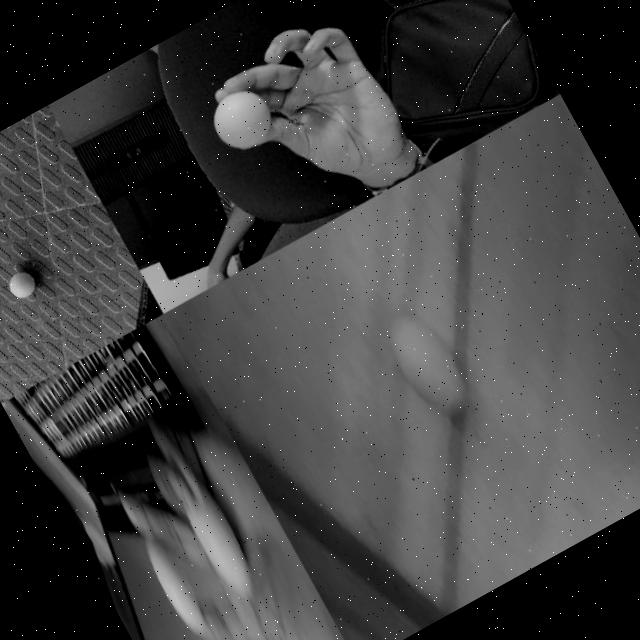ping-pong-ball: (172, 478, 264, 604), (380, 310, 472, 423), (136, 529, 212, 638), (204, 84, 281, 162), (4, 268, 42, 302)
